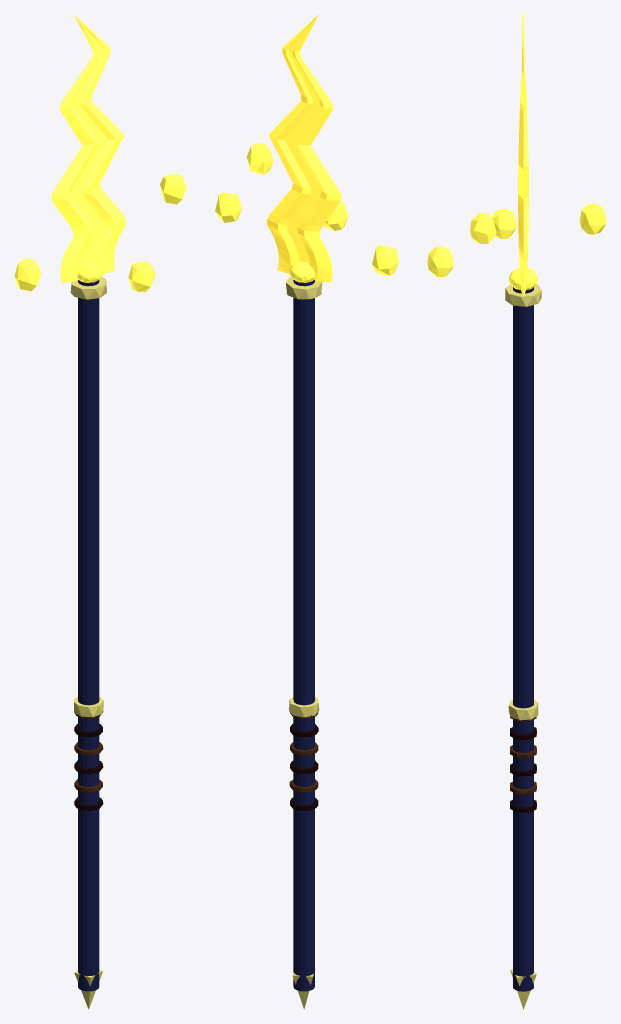
File: spear_8.glb
3 renders of one model, left to right at view 1: azimuth 30°, elevation 25°; view 2: azimuth 150°, elevation 25°; view 3: azimuth 270°, elevation 25°, orthographic.
Parts seen in each view (by area): view 1: part_01, part_11, part_14, part_16, part_13, part_09, part_12, part_10; view 2: part_01, part_11, part_13, part_14, part_15, part_09, part_12, part_16; view 3: part_01, part_11, part_15, part_16, part_13, part_14, part_09.
Part boxes in pixels (x1,y1,x2,y2): part_01: [78, 280, 99, 991]; part_11: [51, 14, 125, 282]; part_14: [14, 258, 41, 291]; part_16: [128, 262, 155, 292]; part_13: [160, 174, 186, 204]; part_09: [70, 277, 106, 299]; part_12: [77, 261, 103, 282]; part_10: [74, 696, 103, 717]; part_01: [293, 280, 314, 991]; part_11: [267, 14, 341, 282]; part_13: [246, 143, 273, 174]; part_14: [372, 245, 398, 275]; part_15: [215, 192, 241, 222]; part_09: [285, 276, 322, 299]; part_12: [289, 261, 315, 282]; part_16: [324, 201, 348, 230]; part_01: [513, 287, 533, 991]; part_11: [518, 14, 528, 296]; part_15: [580, 204, 606, 234]; part_16: [427, 246, 453, 277]; part_13: [470, 212, 496, 243]; part_14: [492, 208, 516, 238]; part_09: [505, 284, 541, 306].
Bounding box in the file's own units: 0.3251 × 1.96 × 0.3208.
